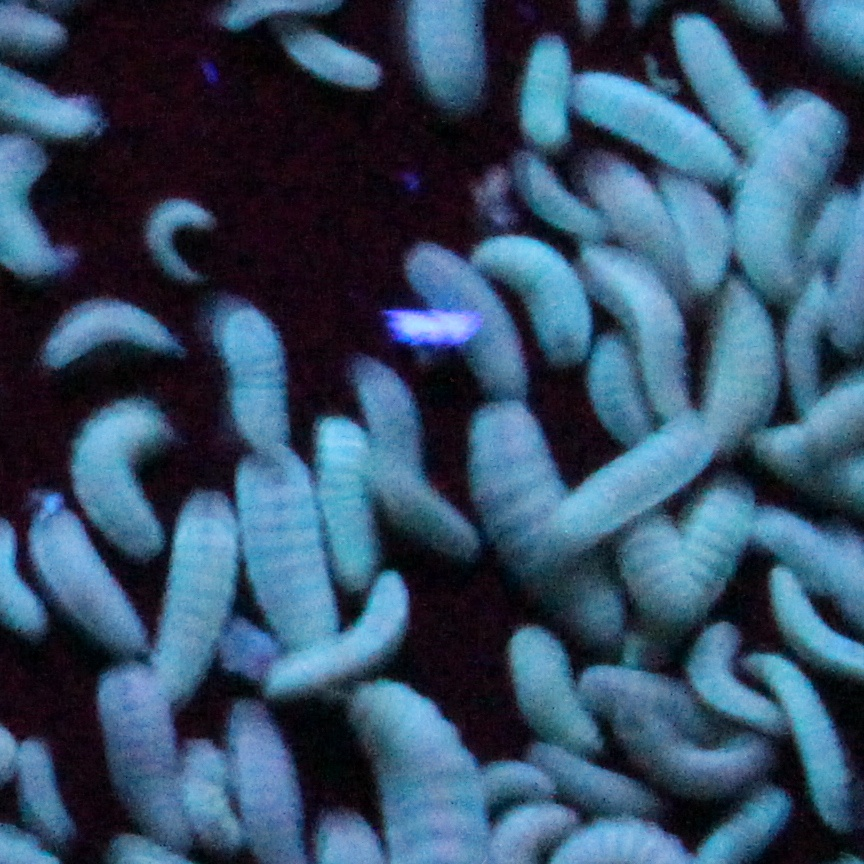larve: (343, 362, 483, 560), (552, 404, 723, 553), (87, 660, 202, 856), (566, 70, 743, 184), (23, 494, 146, 652), (262, 572, 418, 694), (394, 245, 518, 386), (477, 228, 601, 366), (201, 284, 301, 450), (586, 249, 691, 405), (71, 396, 171, 558), (500, 621, 608, 759), (705, 272, 780, 458), (26, 289, 183, 372), (667, 18, 767, 148), (314, 414, 382, 597), (579, 149, 675, 269), (270, 15, 390, 99), (682, 613, 769, 727), (508, 19, 576, 157), (143, 195, 223, 304), (506, 153, 603, 240), (572, 333, 651, 437), (679, 484, 757, 588), (13, 734, 76, 847)
